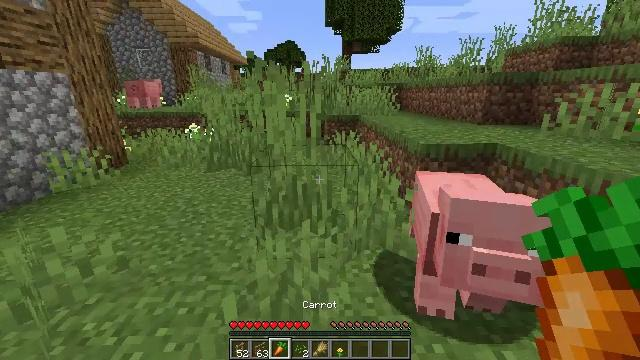pig: (413, 172, 562, 319), (126, 80, 161, 112), (185, 123, 202, 138)
